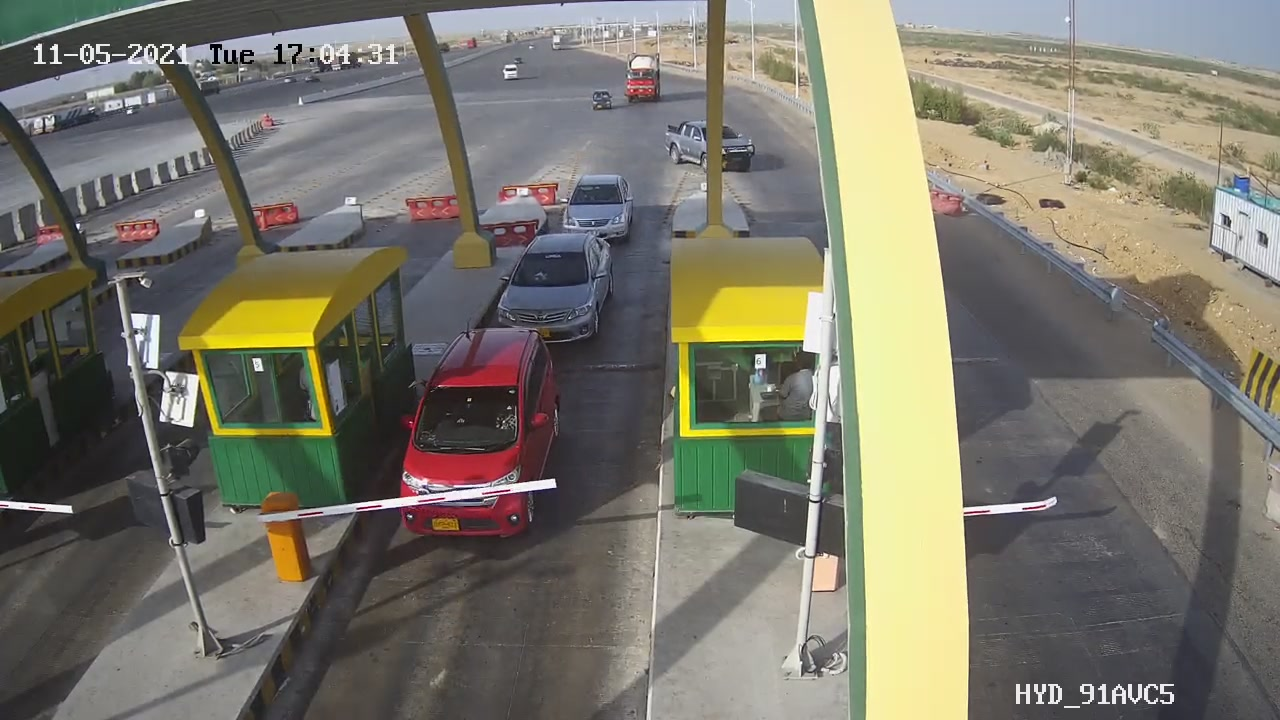F1: (378, 314, 585, 559), (483, 222, 630, 359), (544, 155, 646, 260)
